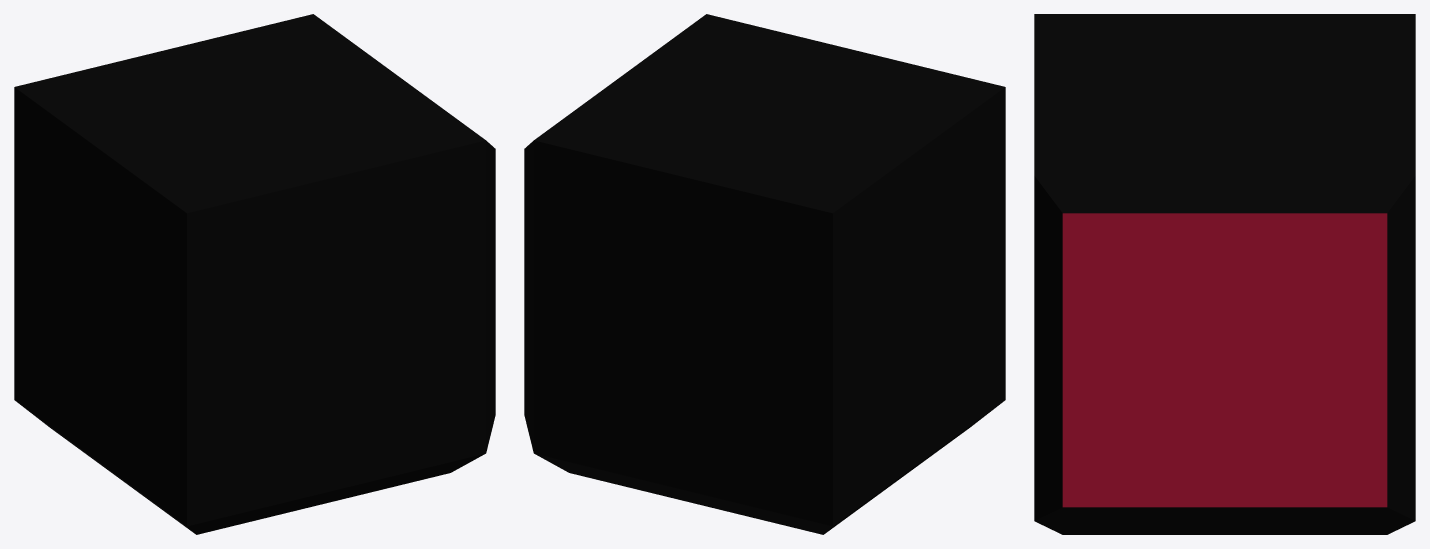
File: rubiks_cube_24.glb
3 views of the same model, side by side, from view 1: azimuth 30°, elevation 25°; view 2: azimuth 150°, elevation 25°; view 3: azimuth 270°, elevation 25° (orthographic). The views are drawn at different scales.
Parts seen in each view (by area): view 1: Cube24.001; view 2: Cube24.001; view 3: Cube24.001.
Part boxes in pixels (box(x1,y1,x2,y2)): Cube24.001: box(14, 14, 495, 534); Cube24.001: box(524, 14, 1005, 534); Cube24.001: box(1034, 14, 1415, 534).
Bounding box in the file's own units: 2.15 × 2.15 × 2.
